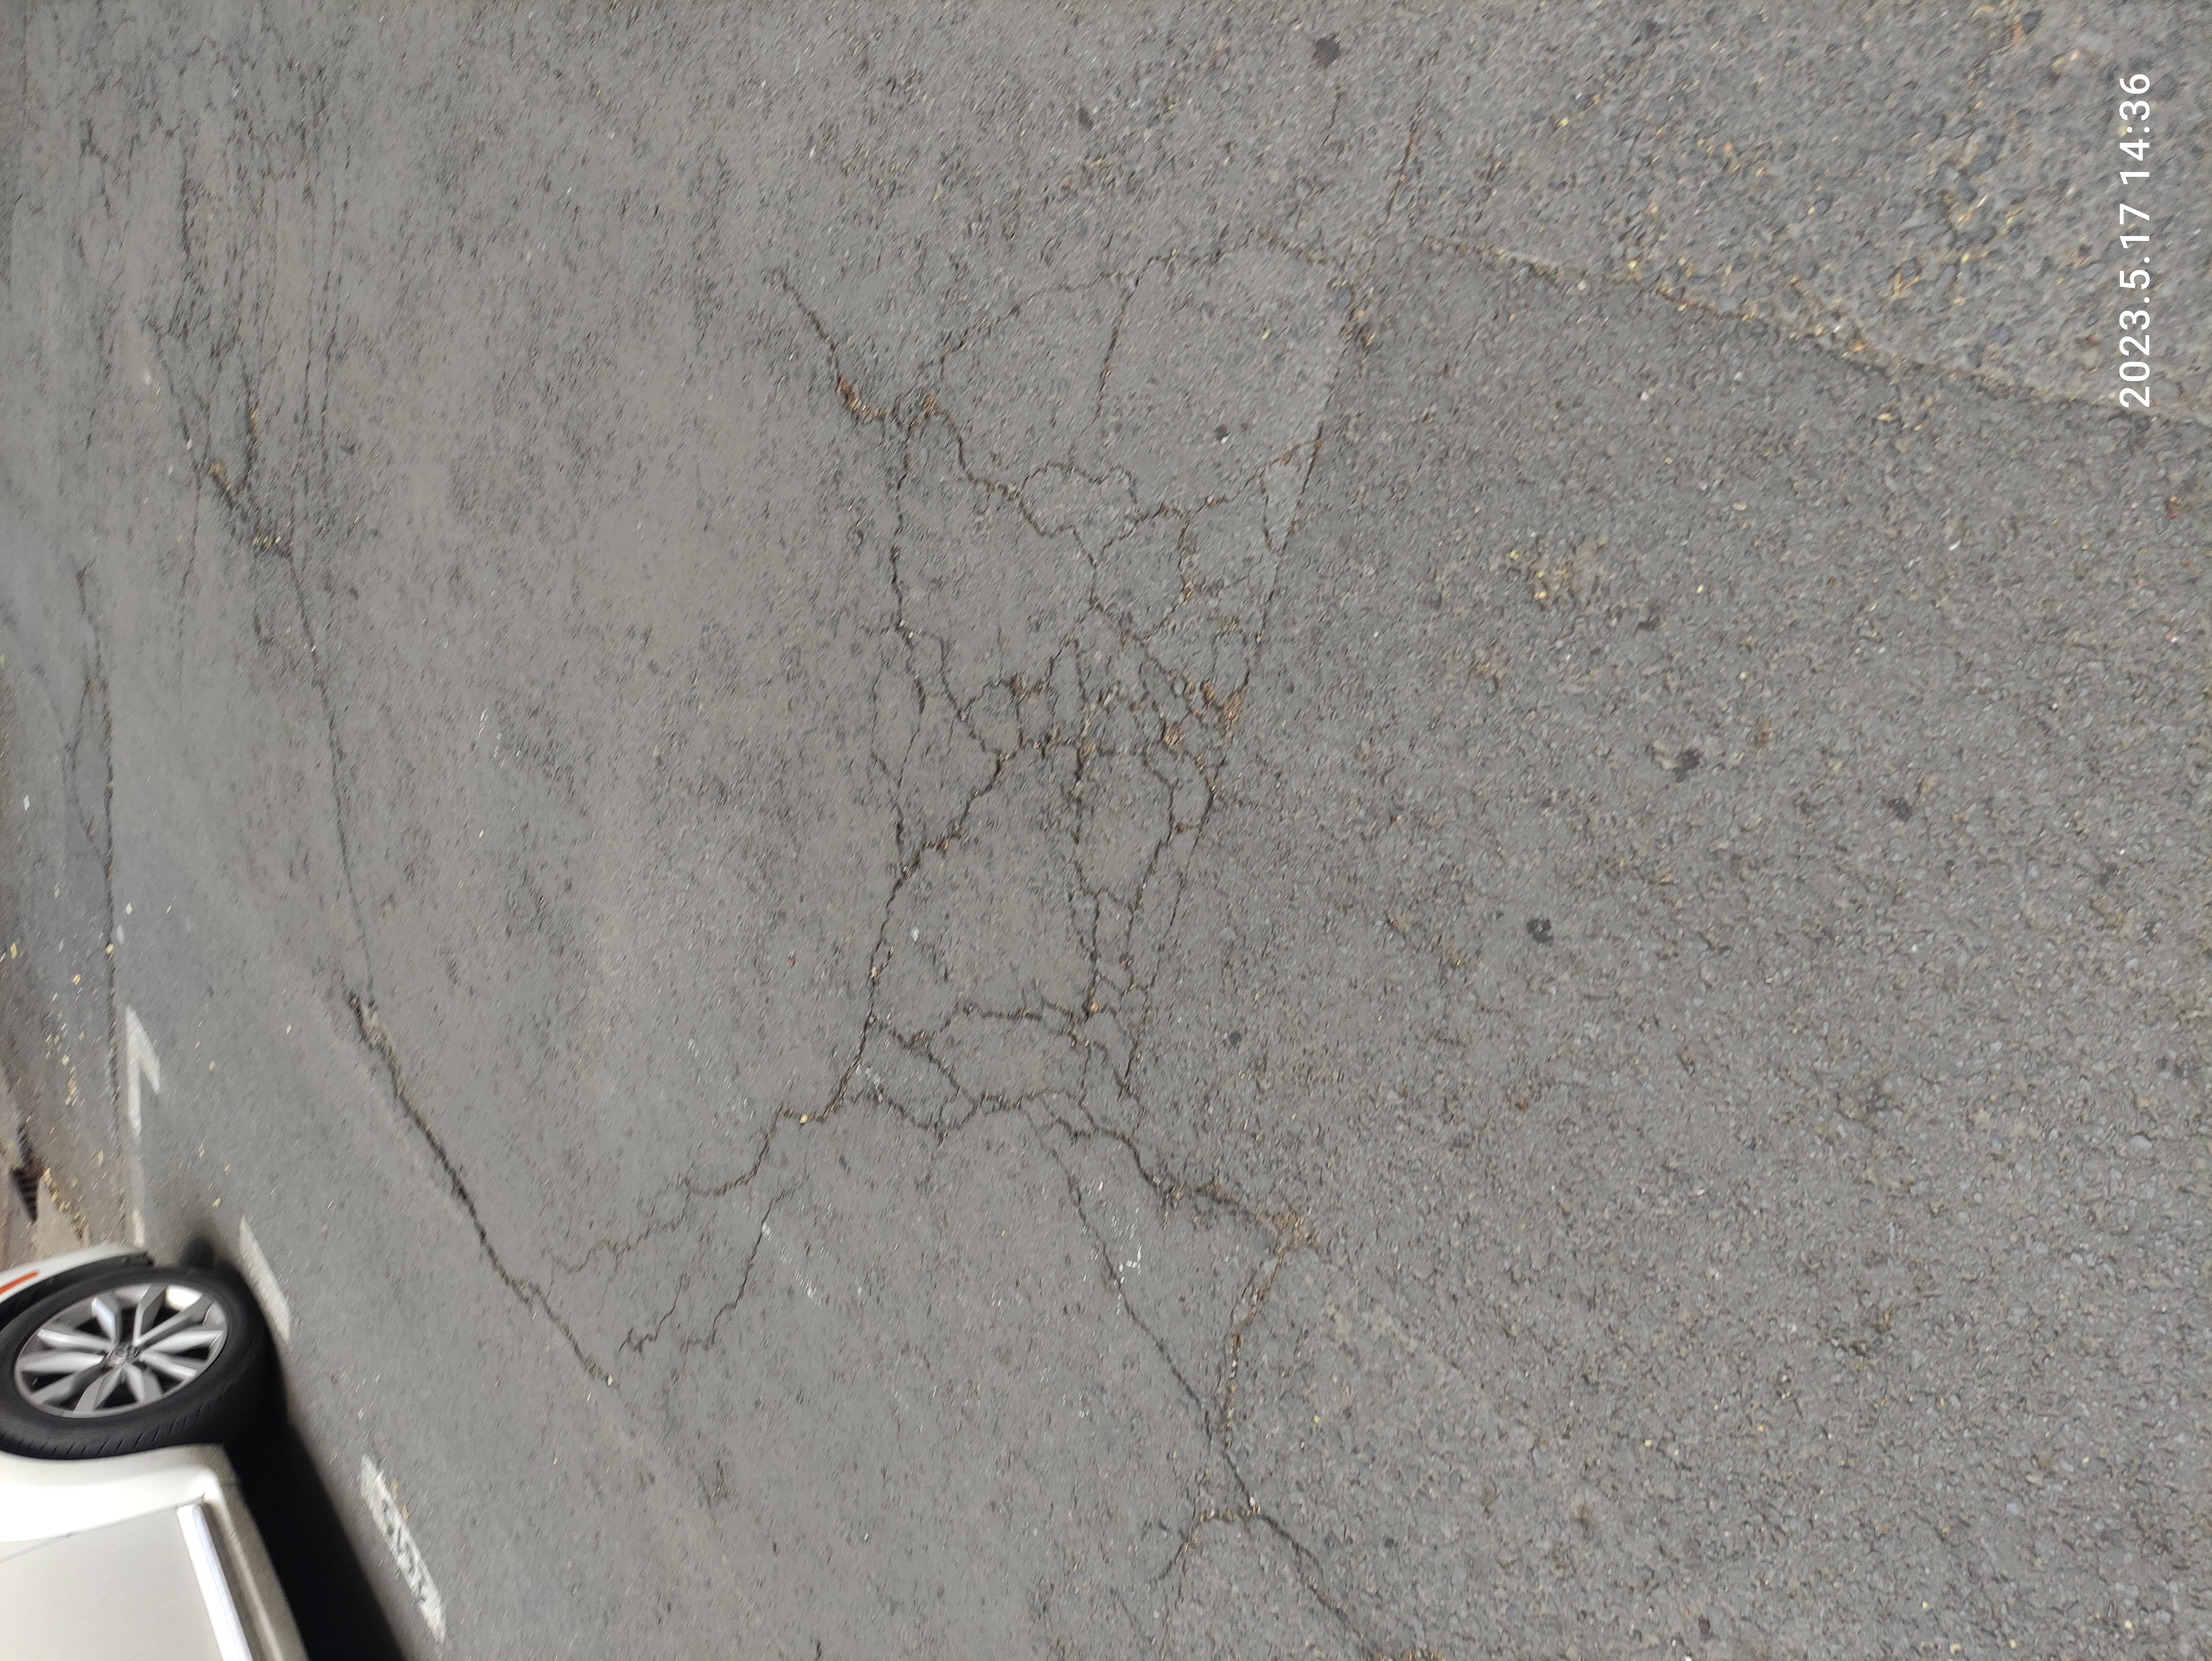alligator-crack: (615, 584, 1873, 947), (309, 255, 930, 611), (1488, 106, 2212, 272)
crack: (16, 765, 704, 1058), (602, 44, 1427, 100)
